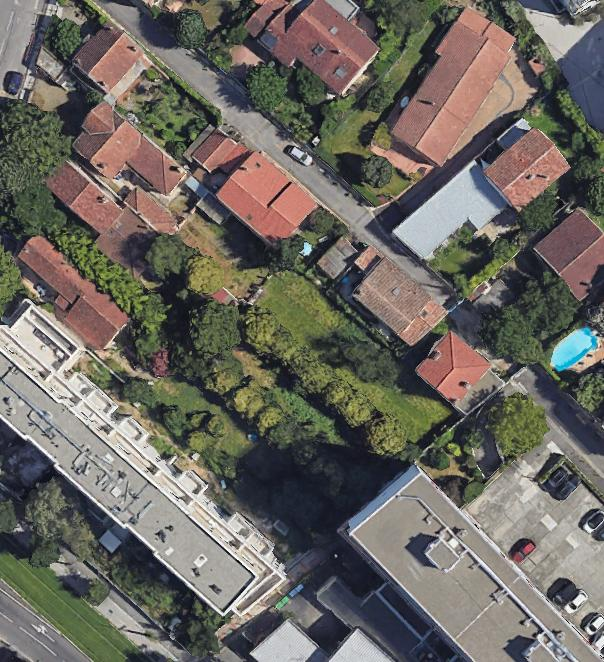immeuble: (0, 311, 295, 632), (334, 458, 604, 662)
maison: (382, 6, 521, 168), (37, 138, 183, 281), (182, 120, 318, 252), (3, 231, 132, 356), (236, 0, 386, 105), (62, 98, 188, 217), (336, 244, 449, 351), (481, 124, 571, 213), (67, 19, 154, 106), (531, 205, 604, 303), (414, 330, 489, 405)
